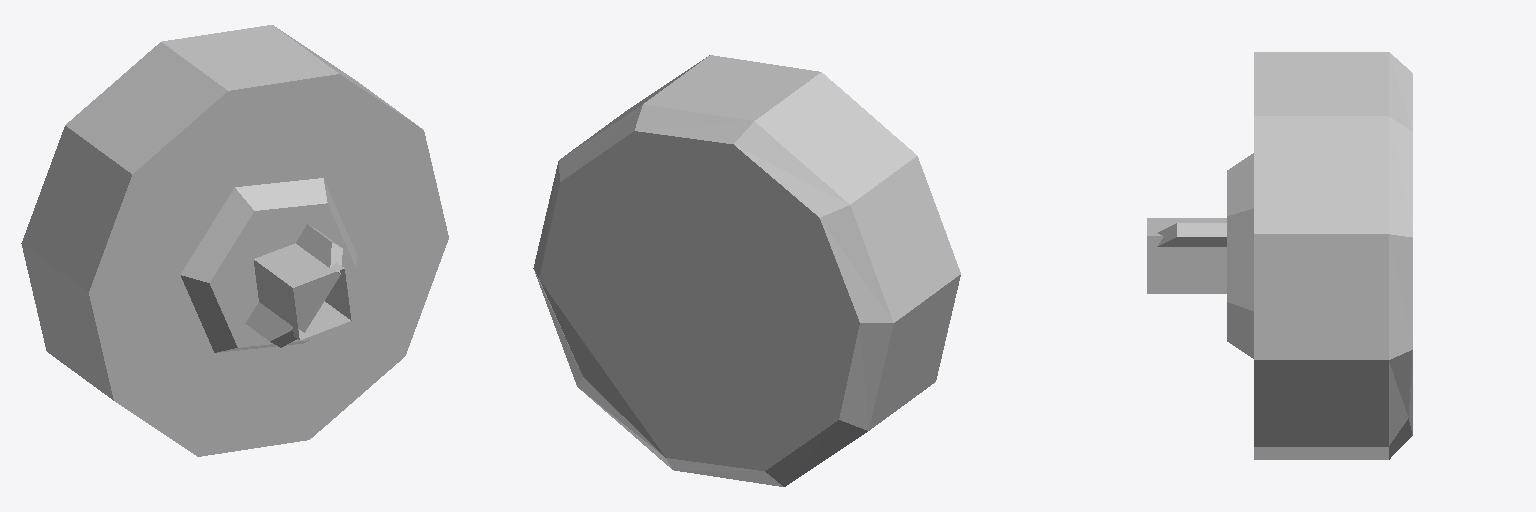
File: wheel53.obj
The picture shows the model from 3 angles: view 1: azimuth 30°, elevation 25°; view 2: azimuth 150°, elevation 25°; view 3: azimuth 270°, elevation 25°; orthographic projection.
Parts seen in each view (by area): view 1: wheel_low_textures; view 2: wheel_low_textures; view 3: wheel_low_textures.
Boxes of the visible parts, box(x1,y1,x2,y2) form: wheel_low_textures: box(21, 25, 448, 456); wheel_low_textures: box(533, 55, 960, 486); wheel_low_textures: box(1147, 52, 1412, 459).
Size of the model in its own units: 1.55 by 1.52 by 0.9907.